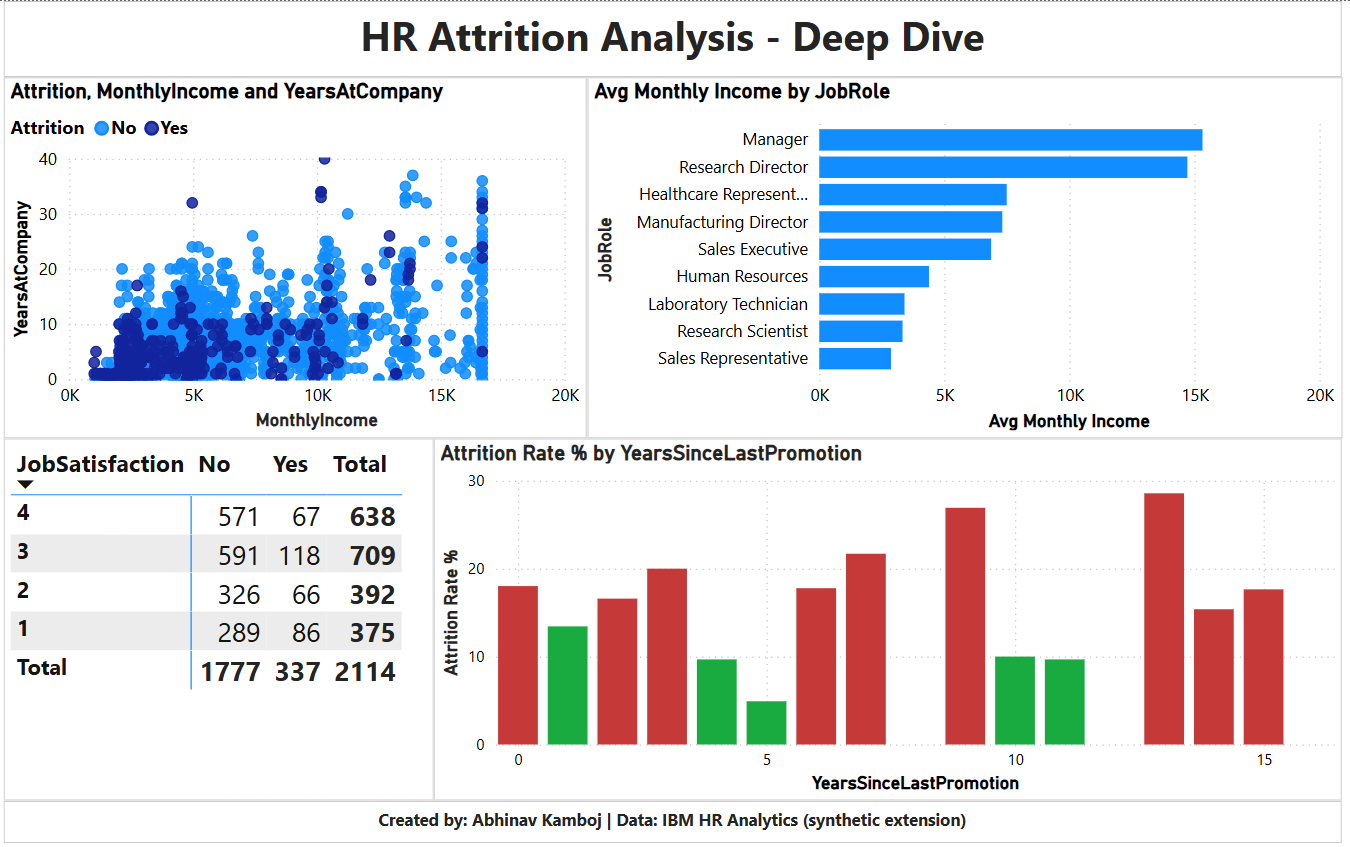

The dashboard page shown, as its layout file describes it:
{"tool":"powerbi","page":{"name":"Deep Dive","canvas":[1280,720],"ordinal":1},"visuals":[{"type":"scatterChart","fields":{"X":["hr_attrition.MonthlyIncome"],"Y":["hr_attrition.YearsAtCompany"],"Series":["hr_attrition.Attrition"]},"box":[7,61,467,289],"z":0},{"type":"clusteredBarChart","fields":{"Category":["hr_attrition.JobRole"],"Y":["hr_attrition.Avg Monthly Income"]},"box":[474,61,604,289],"z":1000},{"type":"pivotTable","fields":{"Values":["CountNonNull(hr_attrition.EmployeeNumber)"],"Rows":["hr_attrition.JobSatisfaction"],"Columns":["hr_attrition.Attrition"]},"box":[7,350,344,290],"z":2000},{"type":"clusteredColumnChart","fields":{"Y":["hr_attrition.Attrition Rate %"],"Category":["hr_attrition.YearsSinceLastPromotion"]},"box":[351,350,727,290],"z":3000},{"type":"textbox","box":[7,7,1071,54],"z":4000},{"type":"textbox","box":[7,640,1071,34],"z":5000}]}

Visuals, with their boxes on the page's 1280x720 design canvas (x1, y1, x2, y2). These are canvas units, not pixel positions in the 1350x847 screenshot, which may show the page scaled, cropped or inside an application window:
scatterChart - hr_attrition.MonthlyIncome x hr_attrition.YearsAtCompany: <bbox>7, 61, 474, 350</bbox>
clusteredBarChart - hr_attrition.JobRole x hr_attrition.Avg Monthly Income: <bbox>474, 61, 1078, 350</bbox>
pivotTable - CountNonNull(hr_attrition.EmployeeNumber) x hr_attrition.JobSatisfaction: <bbox>7, 350, 351, 640</bbox>
clusteredColumnChart - hr_attrition.Attrition Rate % x hr_attrition.YearsSinceLastPromotion: <bbox>351, 350, 1078, 640</bbox>
textbox: <bbox>7, 7, 1078, 61</bbox>
textbox: <bbox>7, 640, 1078, 674</bbox>
